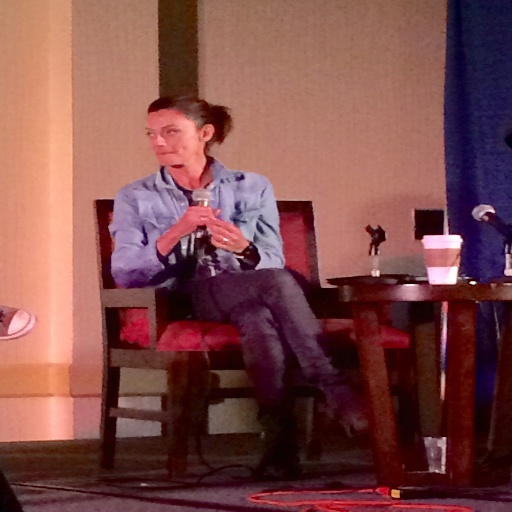hand: (195, 211, 255, 252), (176, 204, 222, 232)
